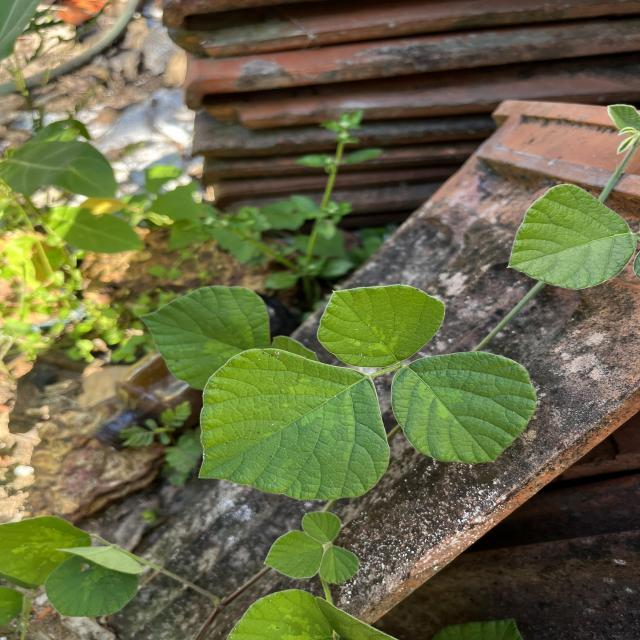Pseudarthria viscida: (191, 281, 541, 505), (261, 509, 363, 586)
